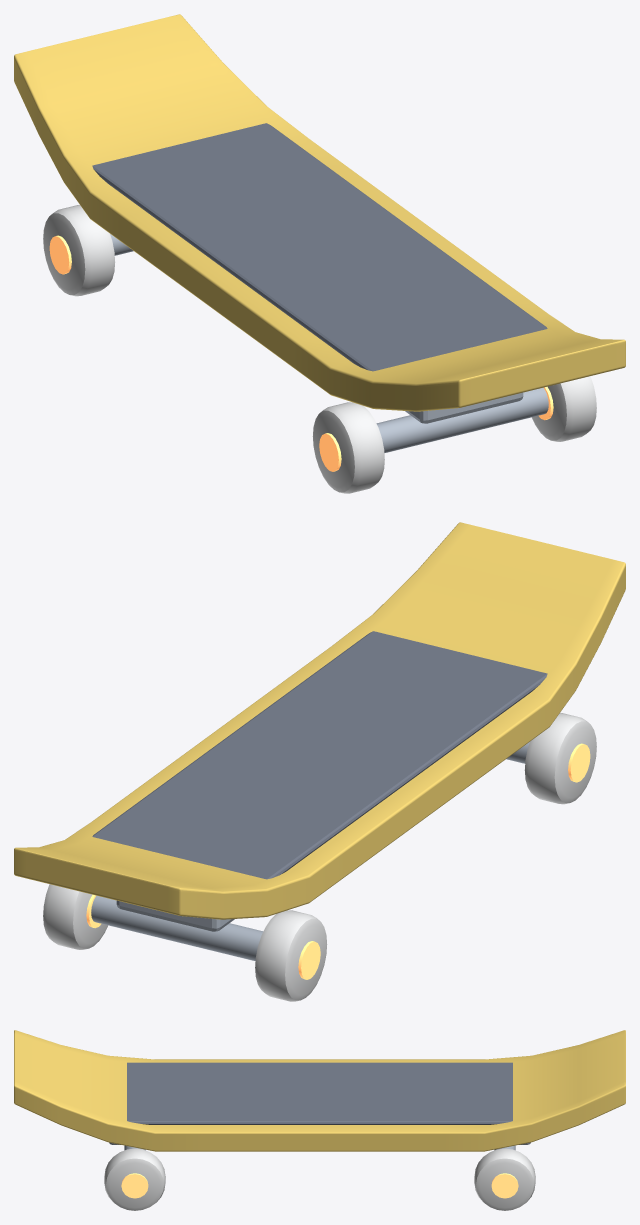
File: skateboard.glb
3 views of the same model, one above another, from view 1: azimuth 30°, elevation 25°; view 2: azimuth 150°, elevation 25°; view 3: azimuth 270°, elevation 25° (orthographic). The views are drawn at different scales.
Visible parts, largest first — view 1: WPN_Skateboard_Deck.001, WPN_Skateboard_Grip.001, WPN_Skateboard_Wheel01.001, WPN_Skateboard_Wheel11.001, WPN_Skateboard_Hanger0.001, WPN_Skateboard_Wheel00.001, WPN_Skateboard_Baseplate0.001, WPN_Skateboard_Hub11.001, WPN_Skateboard_Hub01.001; view 2: WPN_Skateboard_Deck.001, WPN_Skateboard_Grip.001, WPN_Skateboard_Wheel11.001, WPN_Skateboard_Wheel01.001, WPN_Skateboard_Hanger1.001, WPN_Skateboard_Wheel10.001, WPN_Skateboard_Baseplate1.001, WPN_Skateboard_Hub01.001, WPN_Skateboard_Hub11.001; view 3: WPN_Skateboard_Deck.001, WPN_Skateboard_Grip.001, WPN_Skateboard_Wheel00.001, WPN_Skateboard_Wheel10.001, WPN_Skateboard_Hub00.001, WPN_Skateboard_Hub10.001.
Part boxes in pixels (x1,y1,x2,y2): WPN_Skateboard_Deck.001: (14,14,625,411); WPN_Skateboard_Grip.001: (92,123,547,371); WPN_Skateboard_Wheel01.001: (312,402,384,493); WPN_Skateboard_Wheel11.001: (43,205,115,296); WPN_Skateboard_Hanger0.001: (376,387,548,453); WPN_Skateboard_Wheel00.001: (532,376,596,441); WPN_Skateboard_Baseplate0.001: (405,392,523,423); WPN_Skateboard_Hub11.001: (49,235,71,274); WPN_Skateboard_Hub01.001: (319,433,341,471); WPN_Skateboard_Deck.001: (14,522,625,919); WPN_Skateboard_Grip.001: (92,631,547,879); WPN_Skateboard_Wheel11.001: (255,910,327,1001); WPN_Skateboard_Wheel01.001: (524,713,596,804); WPN_Skateboard_Hanger1.001: (91,895,263,961); WPN_Skateboard_Wheel10.001: (43,884,107,949); WPN_Skateboard_Baseplate1.001: (116,900,234,931); WPN_Skateboard_Hub01.001: (568,743,590,782); WPN_Skateboard_Hub11.001: (298,941,320,979); WPN_Skateboard_Deck.001: (14,1030,625,1151); WPN_Skateboard_Grip.001: (127,1062,512,1124); WPN_Skateboard_Wheel00.001: (104,1148,165,1210); WPN_Skateboard_Wheel10.001: (474,1148,535,1210); WPN_Skateboard_Hub00.001: (121,1173,148,1198); WPN_Skateboard_Hub10.001: (491,1173,518,1198).
Size of the model in its own units: 0.28 by 0.1773 by 0.86.
